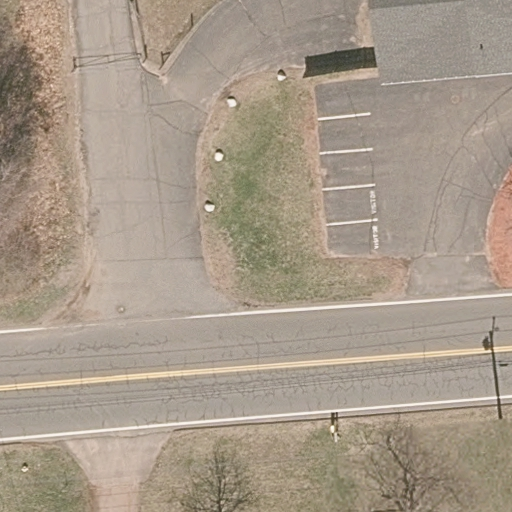DT: (482, 316, 502, 420)
